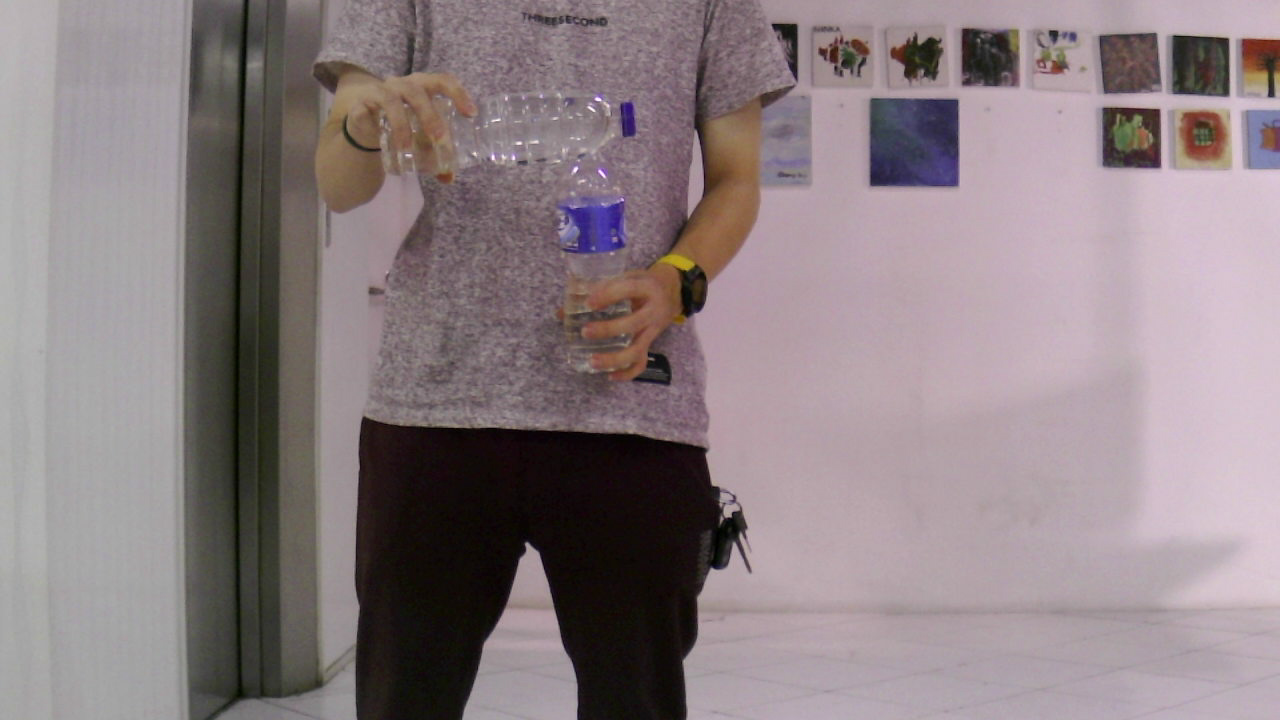Bottle: (377, 96, 648, 188), (558, 152, 642, 383)
